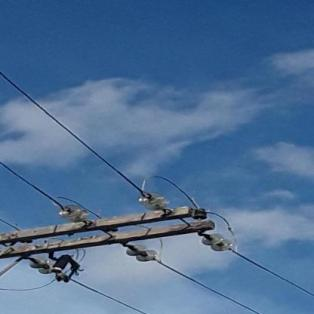Poste: (0, 222, 19, 314)
